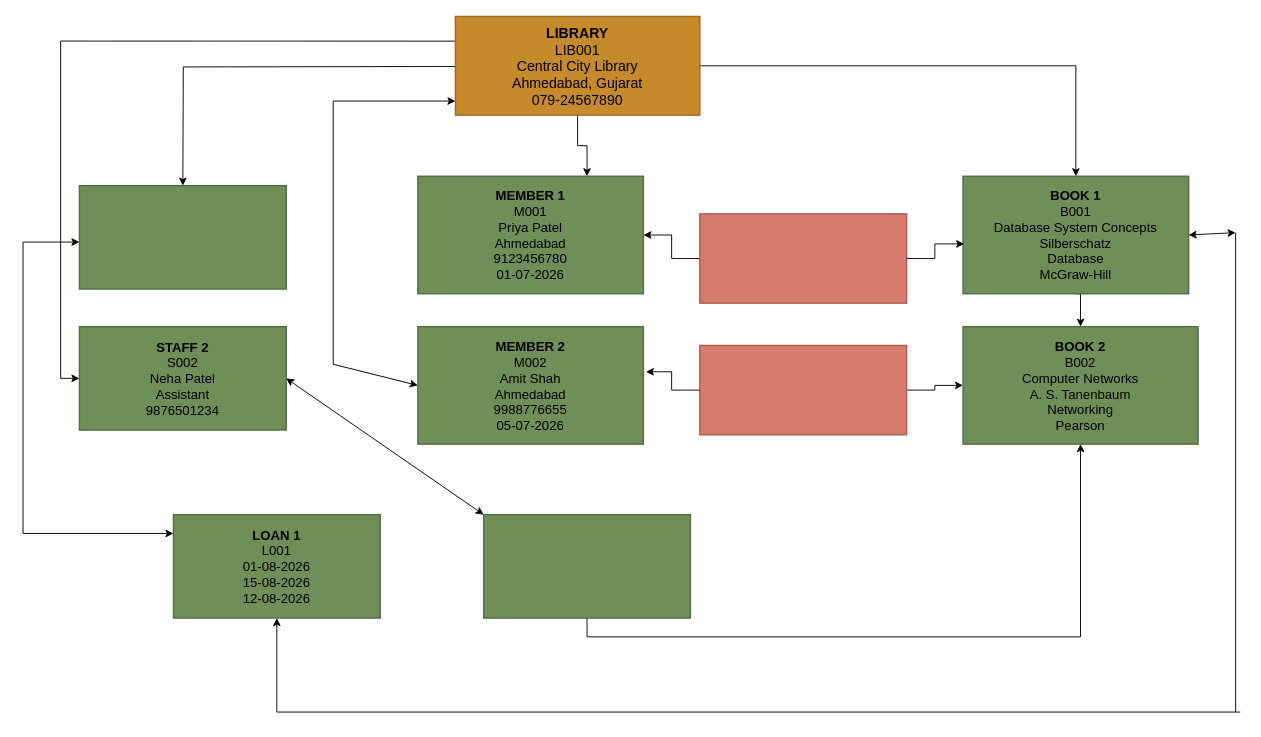
Some shapes in this 1261 by 737 pixel diagram are drawn without their labels. The shapes that lost their labels are listed below. From the top down, each one's centre as x and y in pixels, then its label:
[182,237]: STAFF 1 S001 Rahul Sharma Librarian 9876543210
[803,258]: RESERVATION 1 R001 05-08-2026 Active
[803,389]: RESERVATION 2 R002 07-08-2026 Pending
[587,566]: LOAN 2 L002 03-08-2026 17-08-2026 Not Returned
